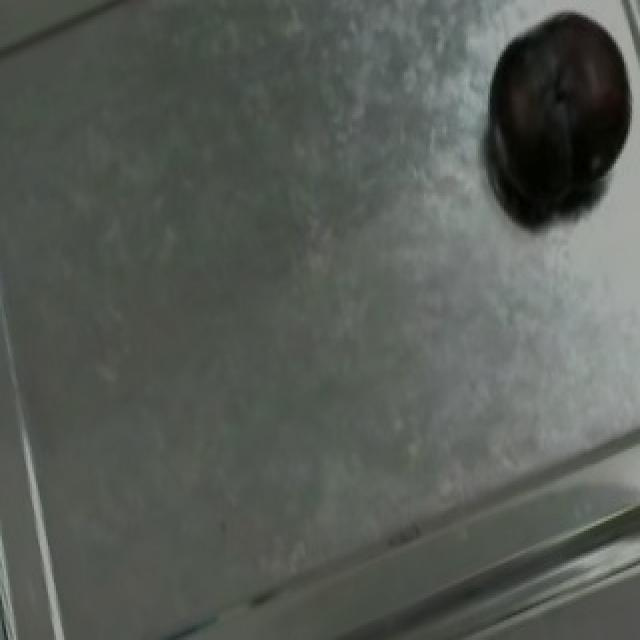Fruit: (468, 0, 640, 221)
